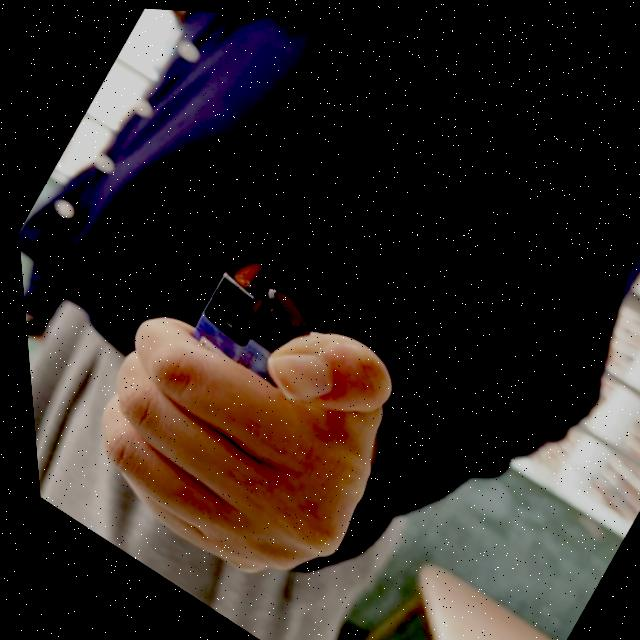Fire: (219, 239, 274, 295)
